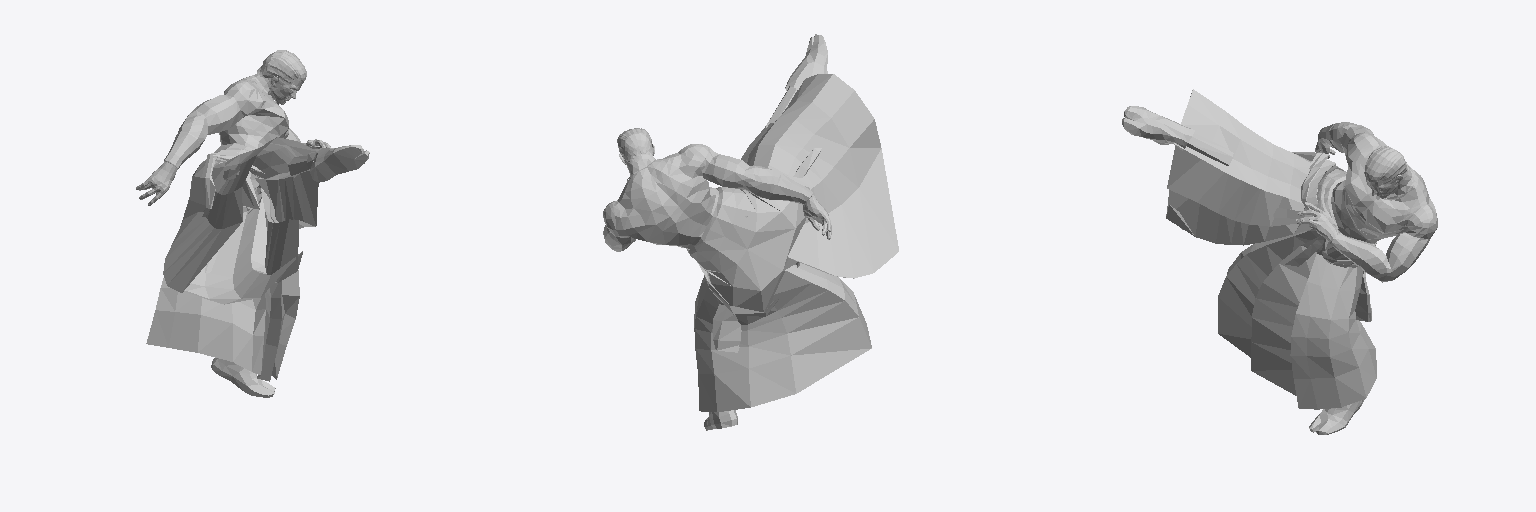
The model's file is geese_attack_000030.obj.
The picture shows the model from 3 angles: view 1: azimuth 30°, elevation 25°; view 2: azimuth 150°, elevation 25°; view 3: azimuth 270°, elevation 25°; orthographic projection.
Parts seen in each view (by area): view 1: GamemodelShape1.002, hairShape; view 2: GamemodelShape1.002, hairShape; view 3: GamemodelShape1.002, hairShape.
Part boxes in pixels (left/top/right/bottom): GamemodelShape1.002: left=136, top=74, right=369, bottom=397; hairShape: left=257, top=50, right=306, bottom=85; GamemodelShape1.002: left=603, top=34, right=898, bottom=430; hairShape: left=617, top=128, right=653, bottom=163; GamemodelShape1.002: left=1122, top=89, right=1437, bottom=434; hairShape: left=1364, top=146, right=1408, bottom=183.
Size of the model in its own units: 3.3 by 4.73 by 4.24.